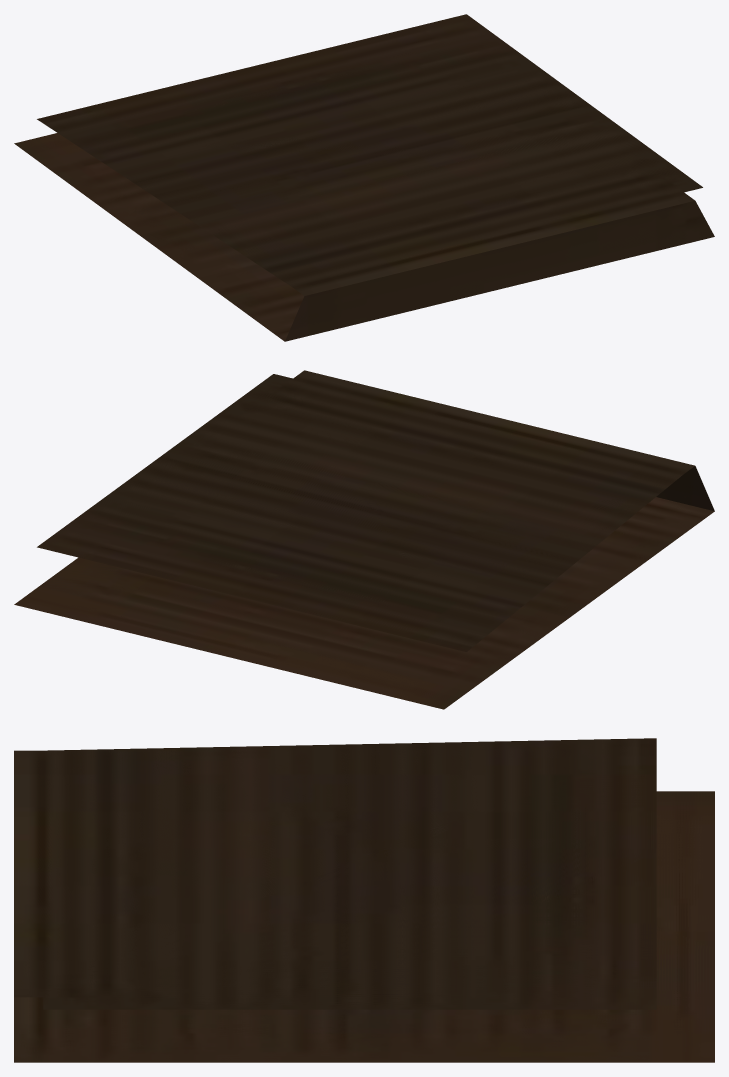
File: link_8__shelf-11.glb
The picture shows the model from 3 angles, top to bottom: view 1: azimuth 30°, elevation 25°; view 2: azimuth 150°, elevation 25°; view 3: azimuth 270°, elevation 25°; orthographic projection. The views are drawn at different scales.
Parts seen in each view (by area): view 1: world; view 2: world; view 3: world.
Part boxes in pixels (bbox=[...]): world: bbox=[14, 14, 714, 341]; world: bbox=[14, 370, 714, 709]; world: bbox=[14, 738, 714, 1062].
Bounding box in the file's own units: 0.1155 × 0.0105 × 0.126.
Materials: 1 (1 with a texture image).
